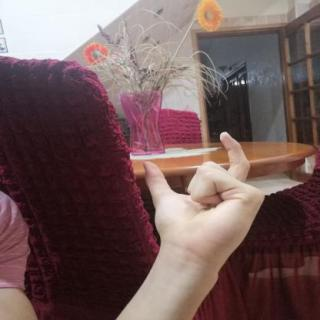NOON: (126, 122, 276, 275)
